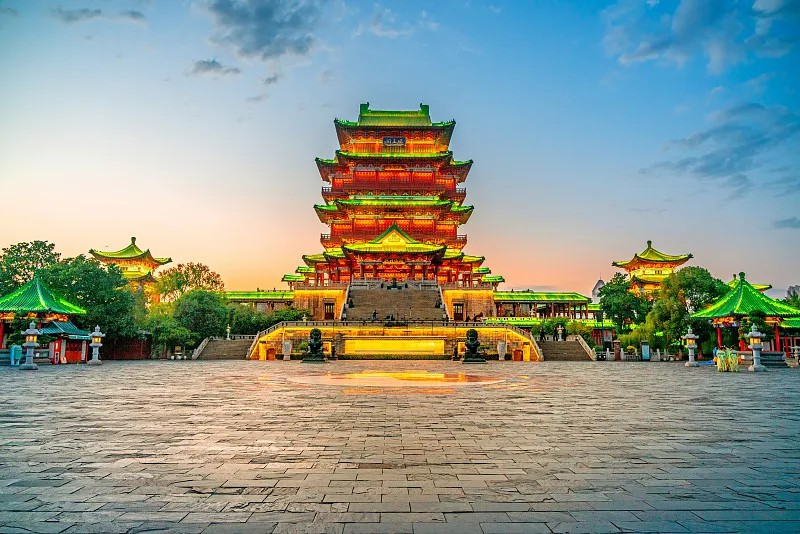Teng: (281, 102, 506, 291)
